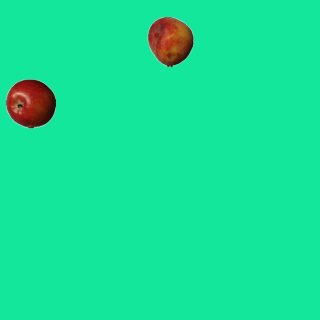Apple Braeburn: (5, 78, 55, 128)
Peach: (145, 16, 195, 66)
